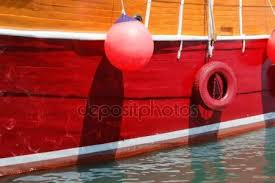buoy: (104, 19, 155, 71)
